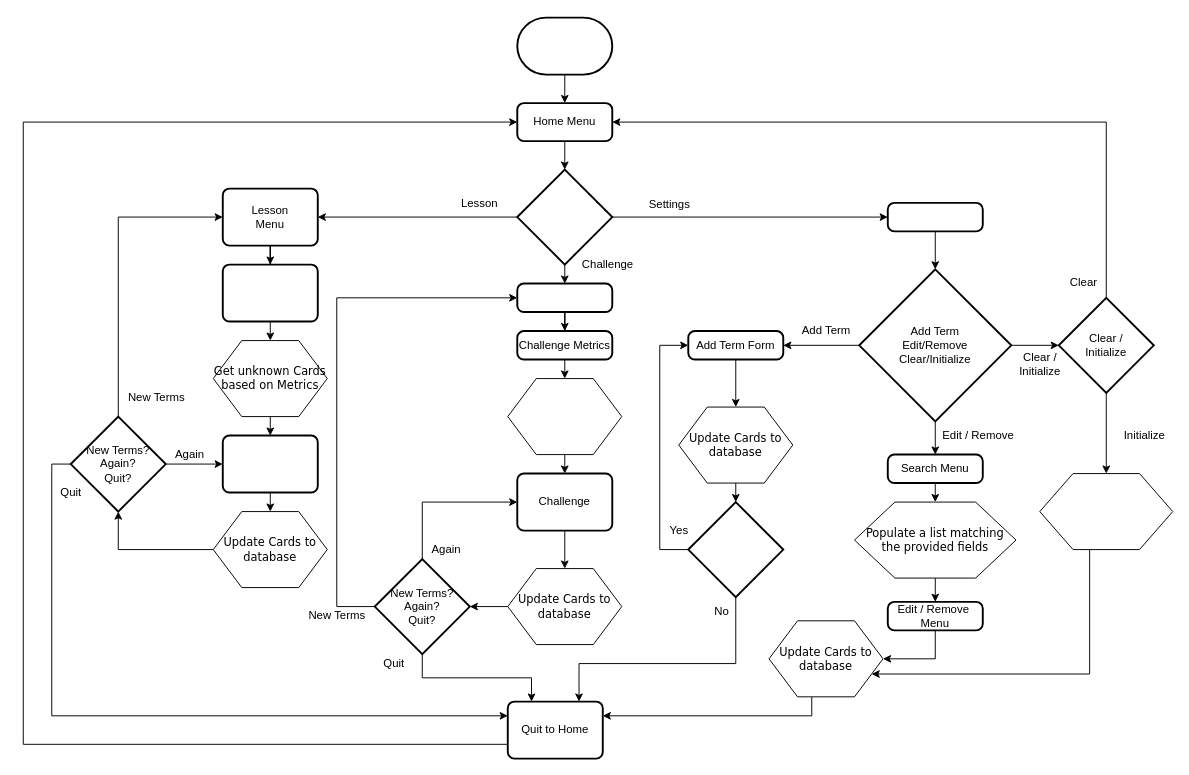
Some shapes in this 1189 by 775 pixel diagram are drawn without their labels. The box of each missing label's shape, as (x1, y1, x2, y2) in pixels:
add another?: (687, 501, 784, 598)
App Start: (516, 16, 613, 75)
Challenge Menu: (516, 282, 613, 313)
Flash Cards: (221, 434, 318, 493)
Get known Cards based on Metrics: (507, 378, 622, 455)
Lesson Challenge Settings: (516, 168, 613, 265)
Lesson Metrics: (221, 263, 318, 322)
Populate database with default csv: (1039, 473, 1173, 550)
Settings Menu: (886, 201, 983, 232)
